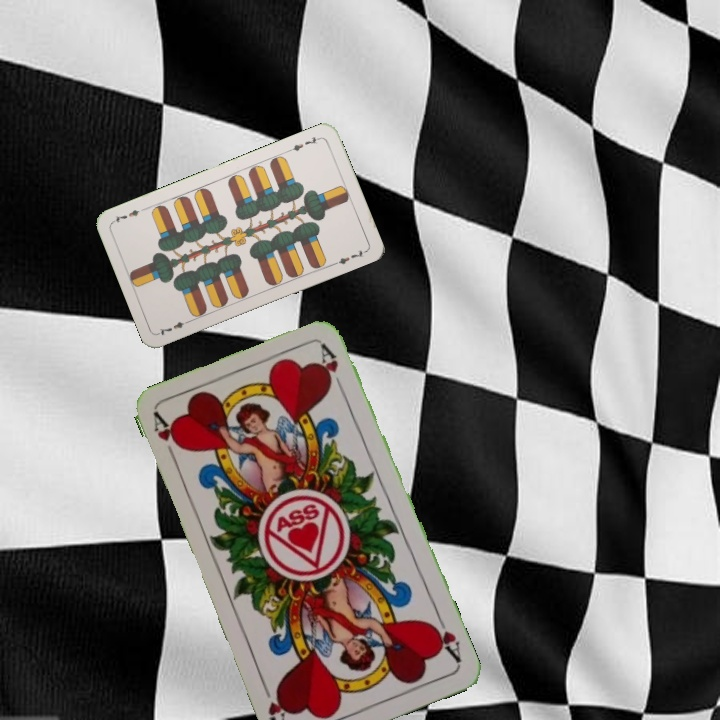E7: (155, 316, 194, 338), (284, 133, 323, 154)
HA: (426, 609, 464, 665), (149, 410, 184, 467)
